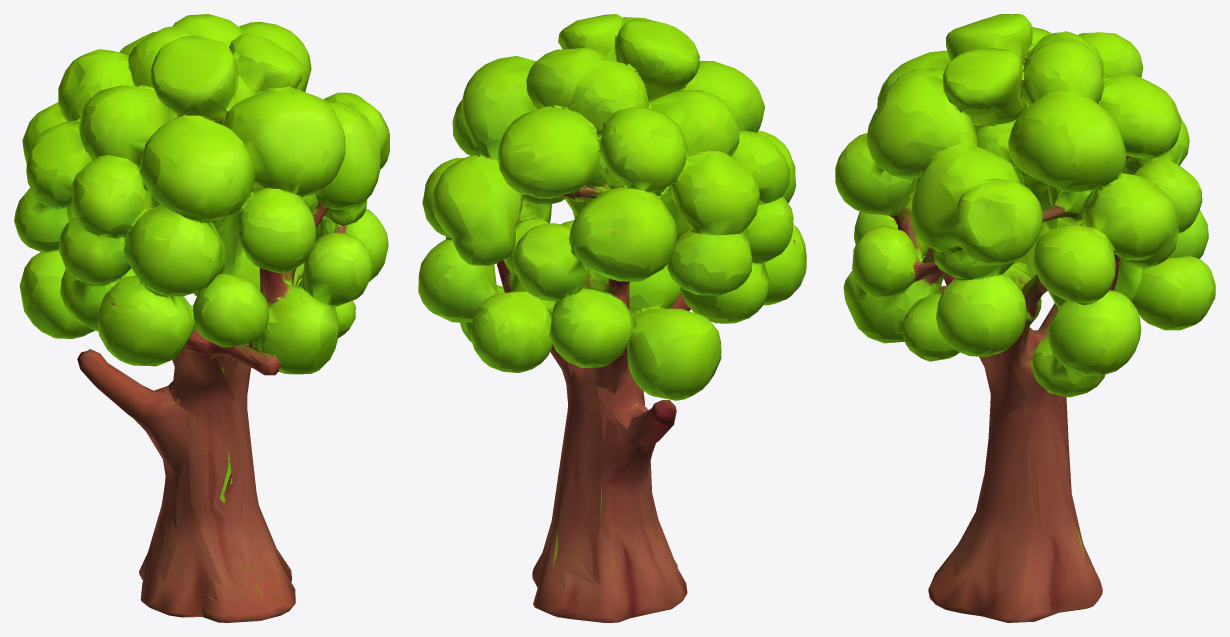
File: tree3.glb
The picture shows the model from 3 angles, left to right: view 1: azimuth 30°, elevation 25°; view 2: azimuth 150°, elevation 25°; view 3: azimuth 270°, elevation 25°; orthographic projection.
Size of the model in its own units: 1.15 by 1.9 by 1.17.
1 material, 1 textured.
